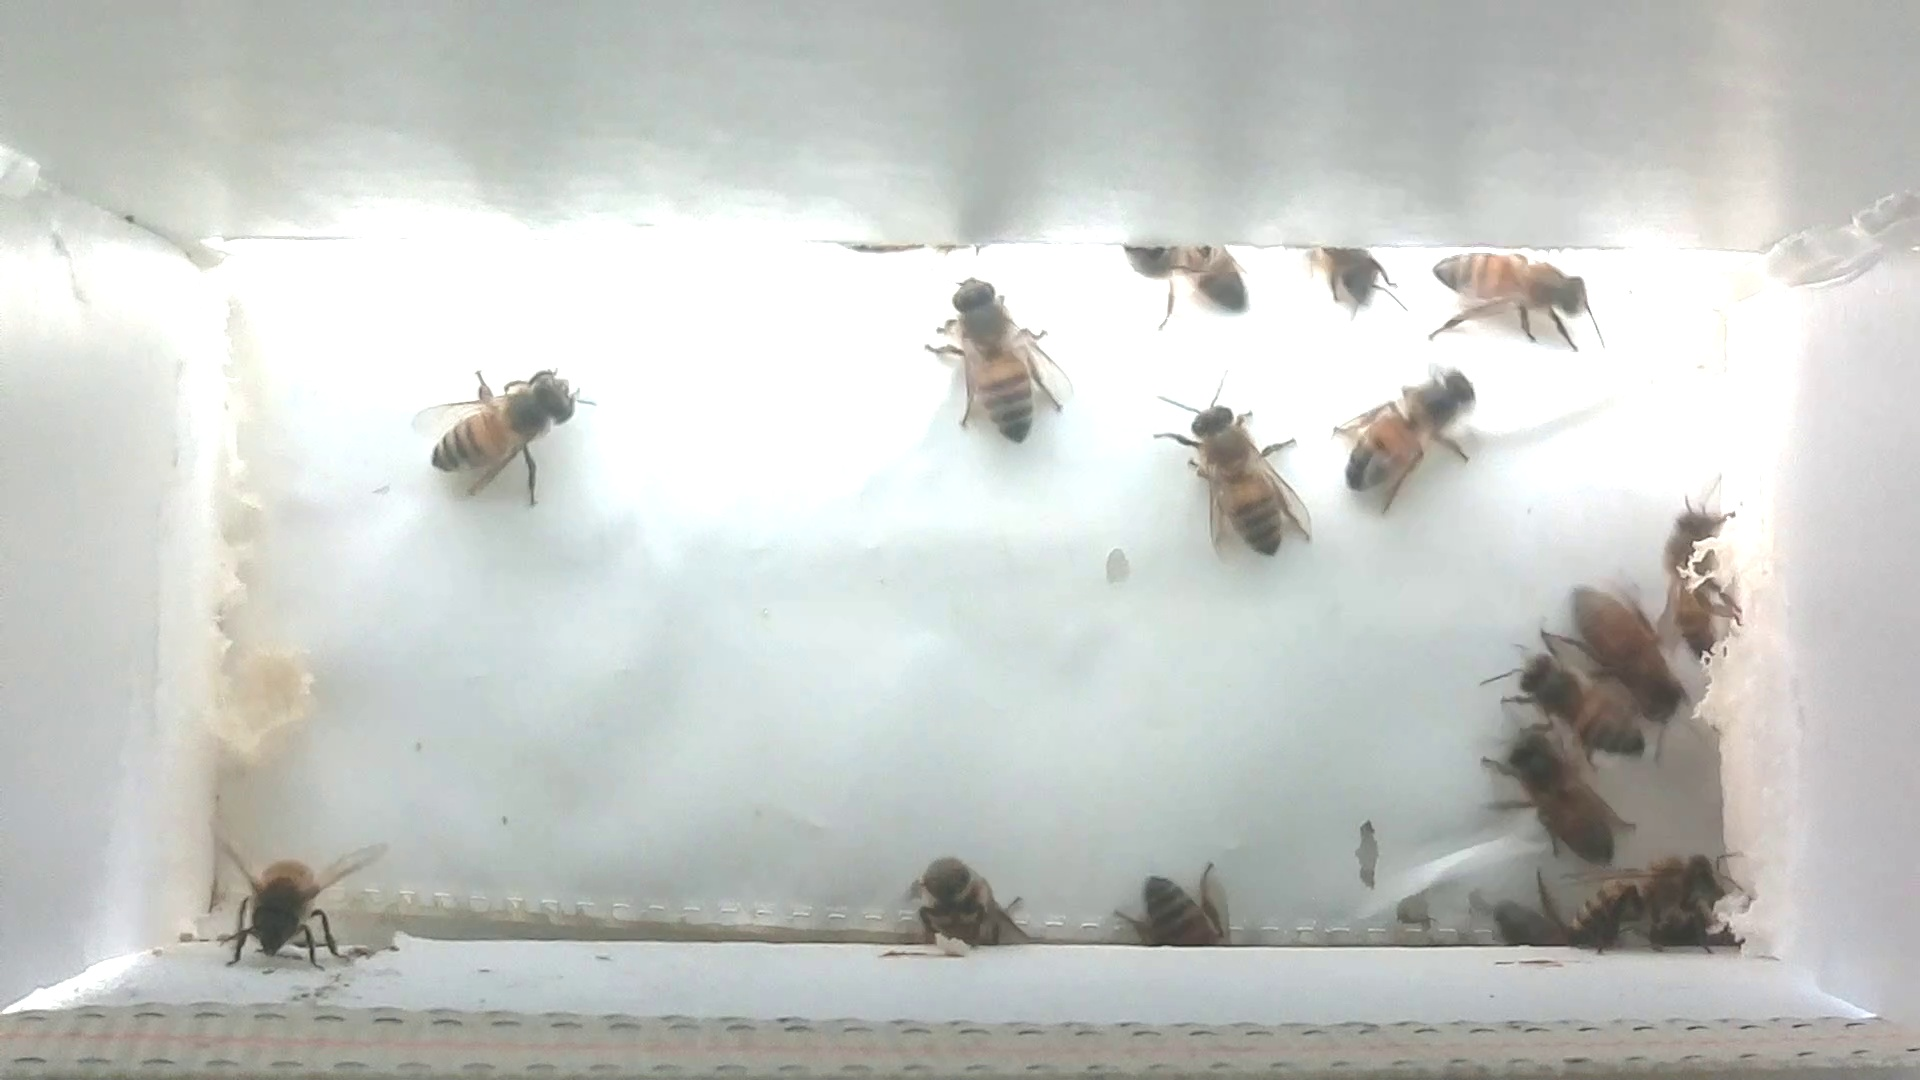bee: (1139, 378, 1331, 580), (396, 348, 599, 518), (919, 264, 1083, 471), (1523, 560, 1714, 735), (199, 804, 382, 975), (1316, 360, 1505, 524), (1456, 716, 1644, 874), (1480, 636, 1679, 781), (1535, 825, 1749, 957), (1414, 233, 1609, 369), (1633, 468, 1749, 678), (878, 829, 1036, 971), (1105, 847, 1254, 961), (1133, 223, 1259, 334), (1298, 228, 1416, 335)
